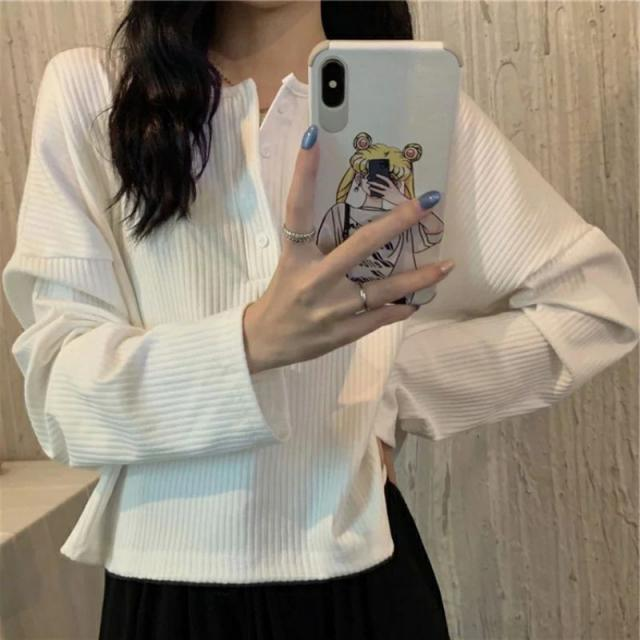Shirt: (2, 39, 640, 590)
